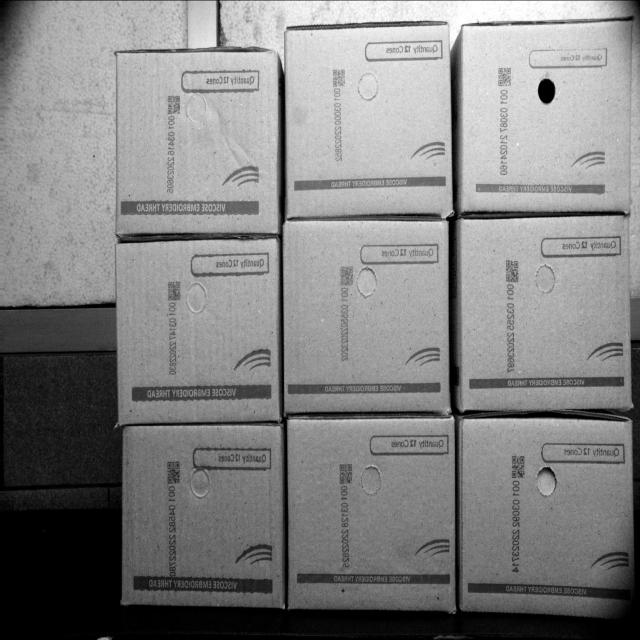cardboxes: (458, 416, 634, 616), (462, 12, 632, 212), (284, 17, 450, 214), (286, 420, 457, 611), (458, 219, 628, 410), (284, 220, 446, 408), (115, 240, 280, 420), (117, 54, 279, 233), (122, 428, 284, 604)
